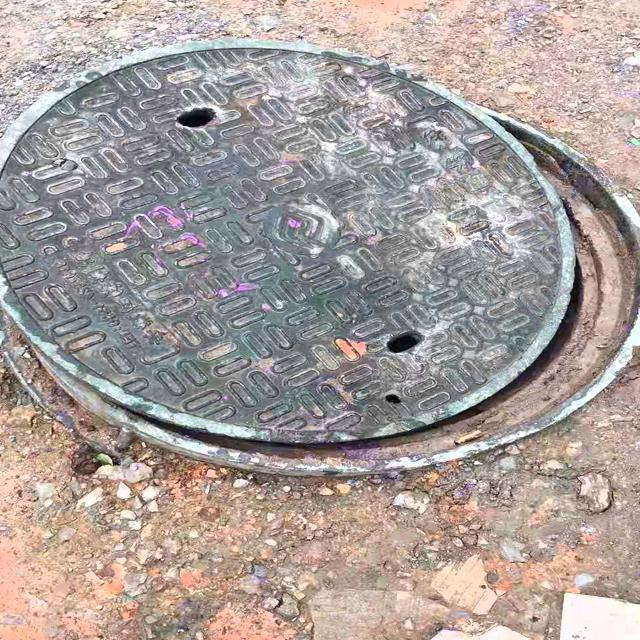uncovered: (0, 34, 640, 475)
